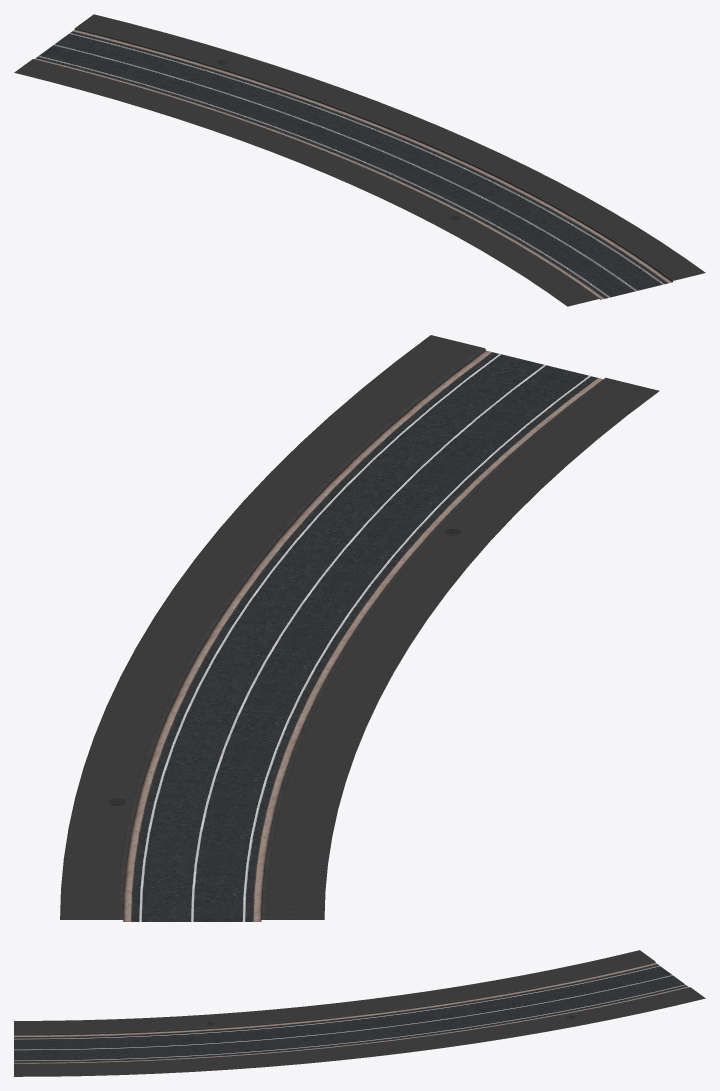
The model's file is or_city_road_cont_marking_30left.fbx.
The picture shows the model from 3 angles, top to bottom: view 1: azimuth 30°, elevation 25°; view 2: azimuth 150°, elevation 25°; view 3: azimuth 270°, elevation 25°; orthographic projection. The views are drawn at different scales.
Parts seen in each view (by area): view 1: obj0; view 2: obj0; view 3: obj0.
Boxes of the visible parts, x1=… form: obj0: x1=14, y1=14, x2=705, y2=306; obj0: x1=60, y1=335, x2=659, y2=921; obj0: x1=14, y1=950, x2=705, y2=1076.
Size of the model in its own units: 66.25 by 0.254 by 153.
